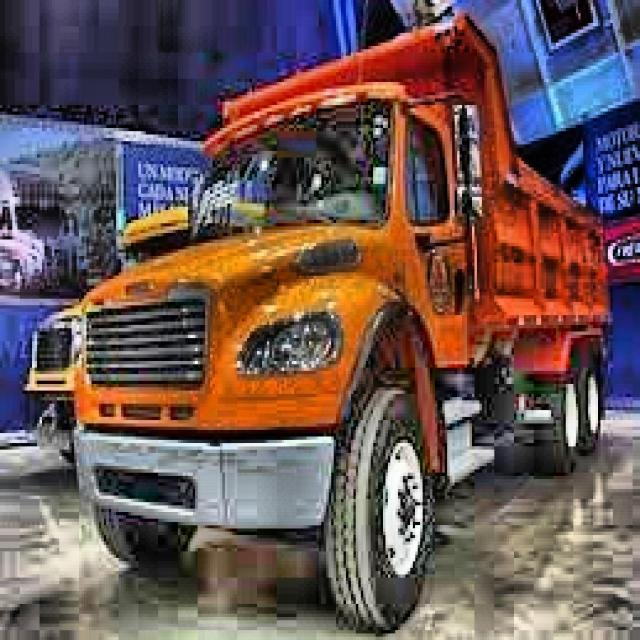dump_truck: (72, 18, 608, 636)
